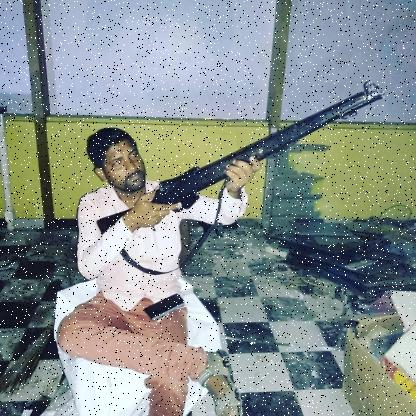rifle: (94, 78, 391, 249)
